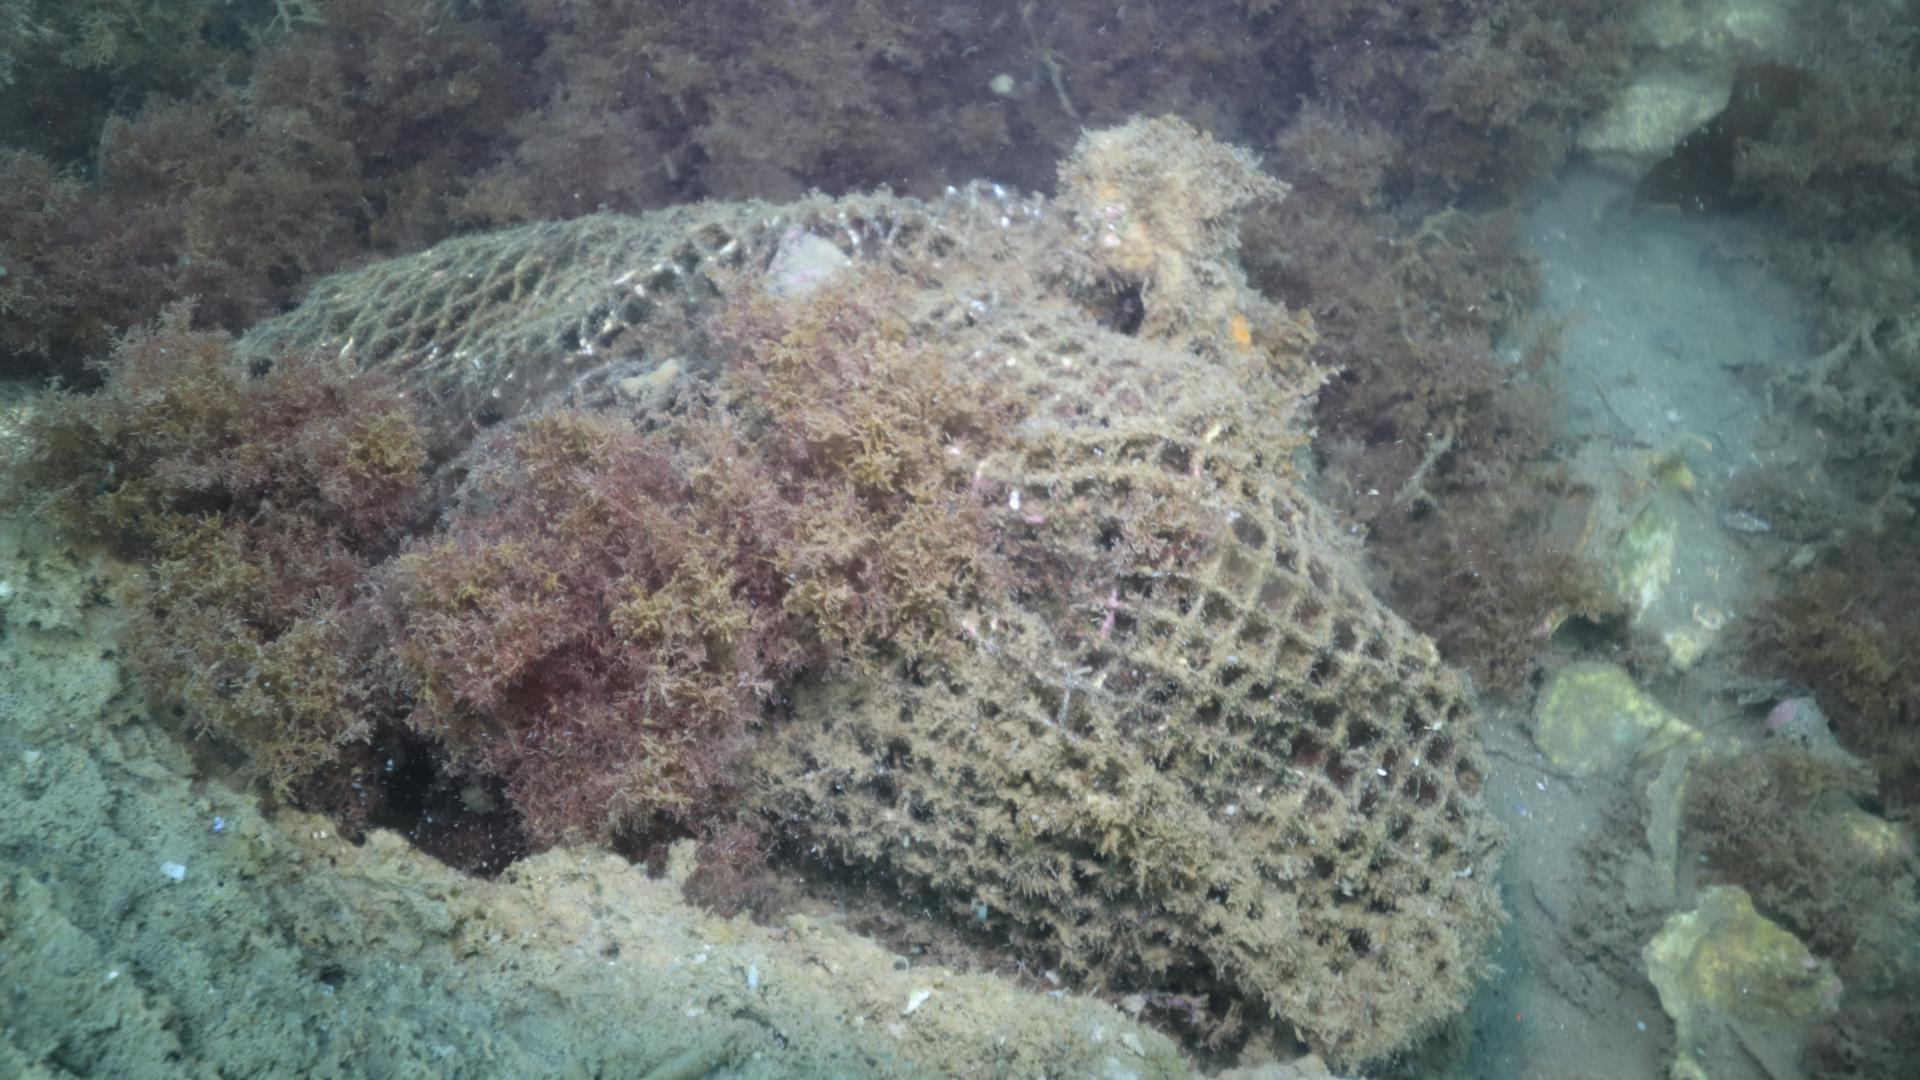fish net: (243, 179, 1502, 1069)
